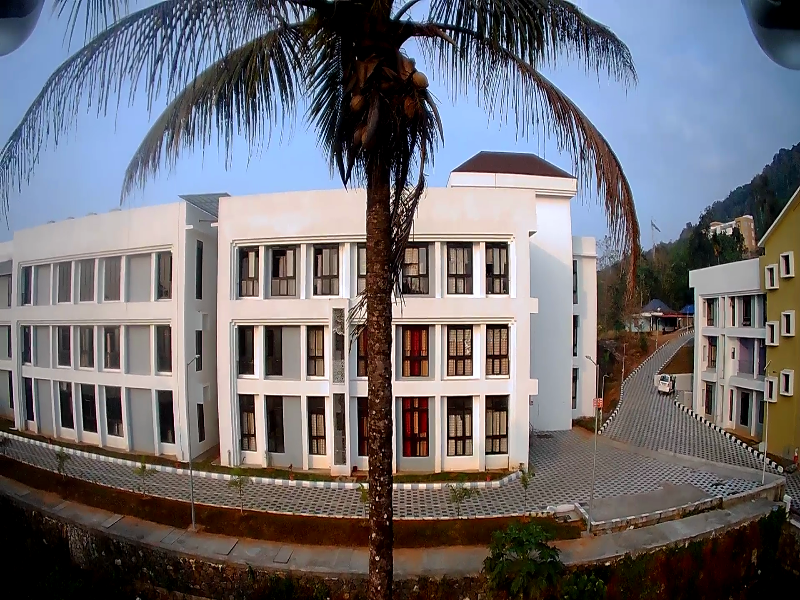coconut: (401, 66, 435, 92), (401, 94, 426, 122), (356, 129, 378, 147), (345, 91, 361, 112)
